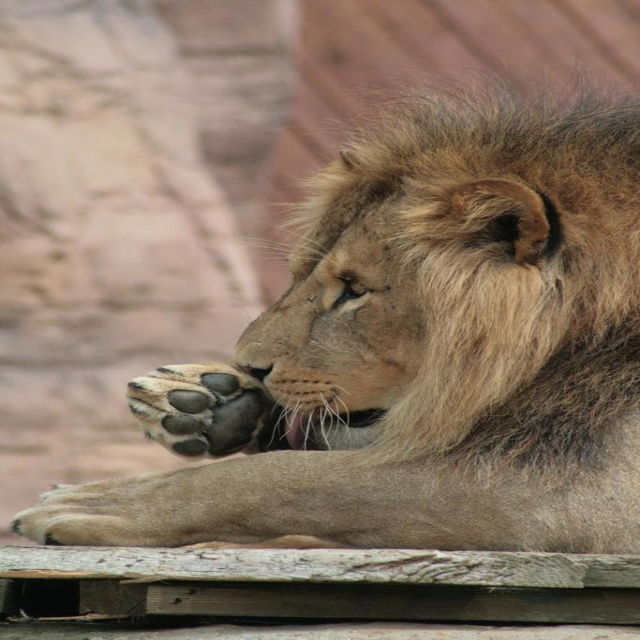Lion: (4, 50, 639, 548)
